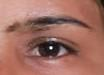open: (14, 33, 86, 68)
